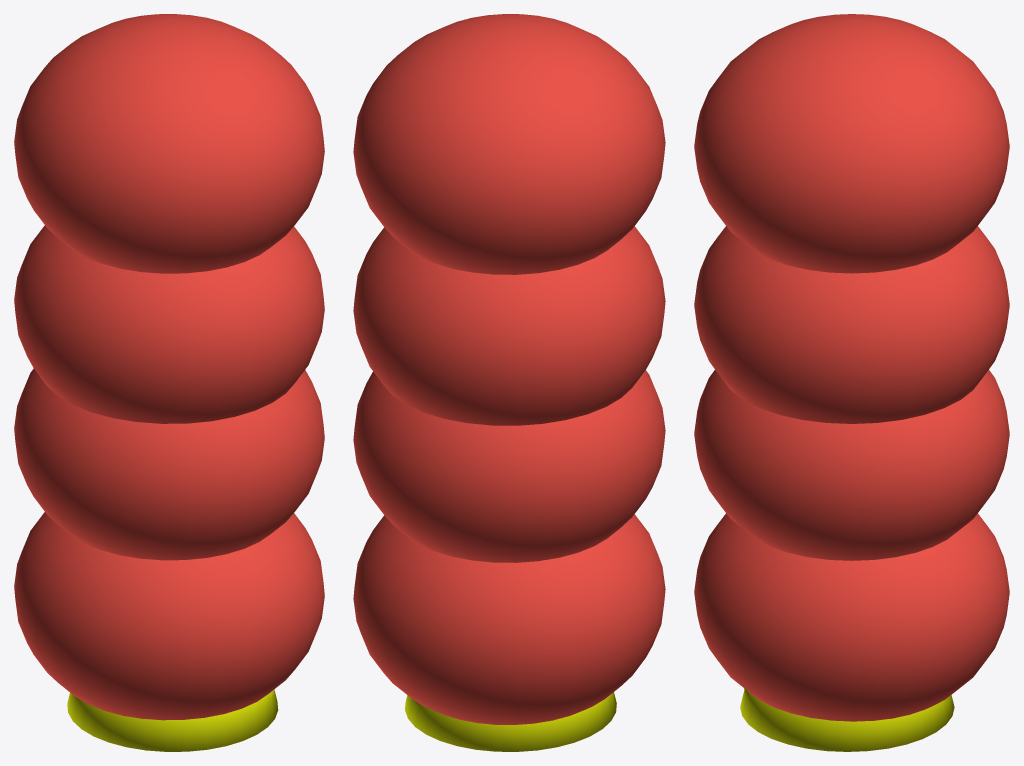
File: Donut.fbx
The picture shows the model from 3 angles, left to right: view 1: azimuth 30°, elevation 25°; view 2: azimuth 150°, elevation 25°; view 3: azimuth 270°, elevation 25°; orthographic projection.
Parts seen in each view (by area): view 1: Circle.075; view 2: Circle.075; view 3: Circle.075.
Part boxes in pixels (bbox=[...]): Circle.075: bbox=[14, 14, 324, 751]; Circle.075: bbox=[353, 14, 665, 751]; Circle.075: bbox=[694, 14, 1009, 751].
Bounding box in the file's own units: 161 × 381 × 158.
